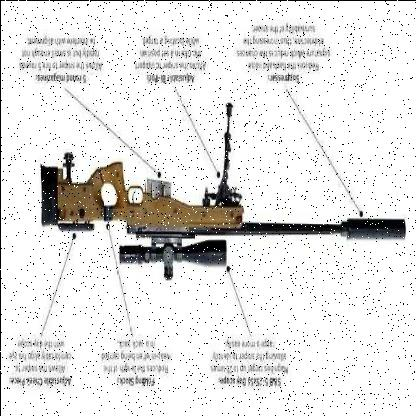rifle: (36, 118, 408, 291)
